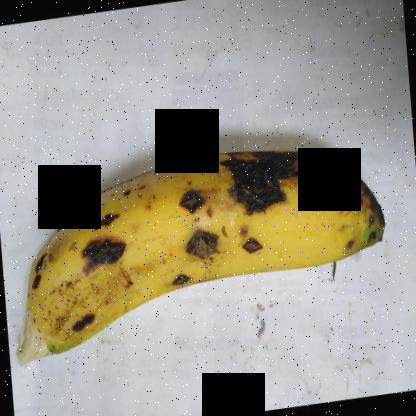rotten: (52, 158, 128, 283), (236, 147, 303, 221), (174, 218, 230, 272), (57, 285, 106, 345), (164, 180, 211, 220), (18, 248, 58, 295), (227, 229, 273, 268), (168, 259, 192, 299)
